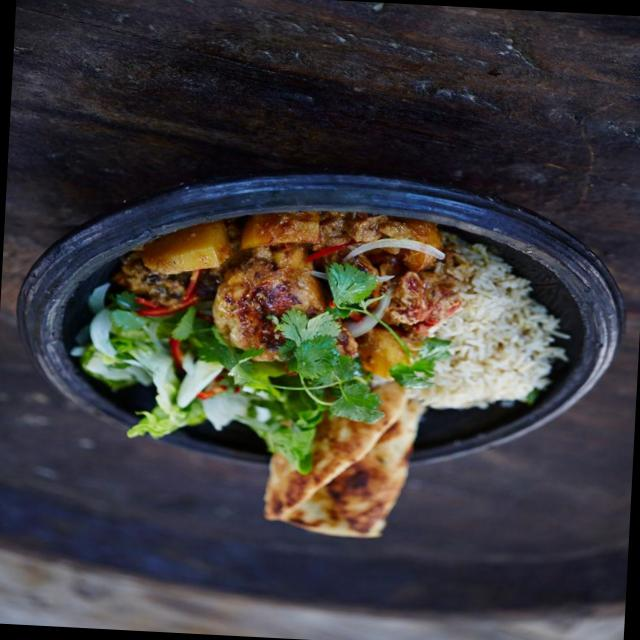chicken: (150, 214, 389, 360)
rice: (431, 262, 560, 405)
roti: (310, 386, 404, 525)
